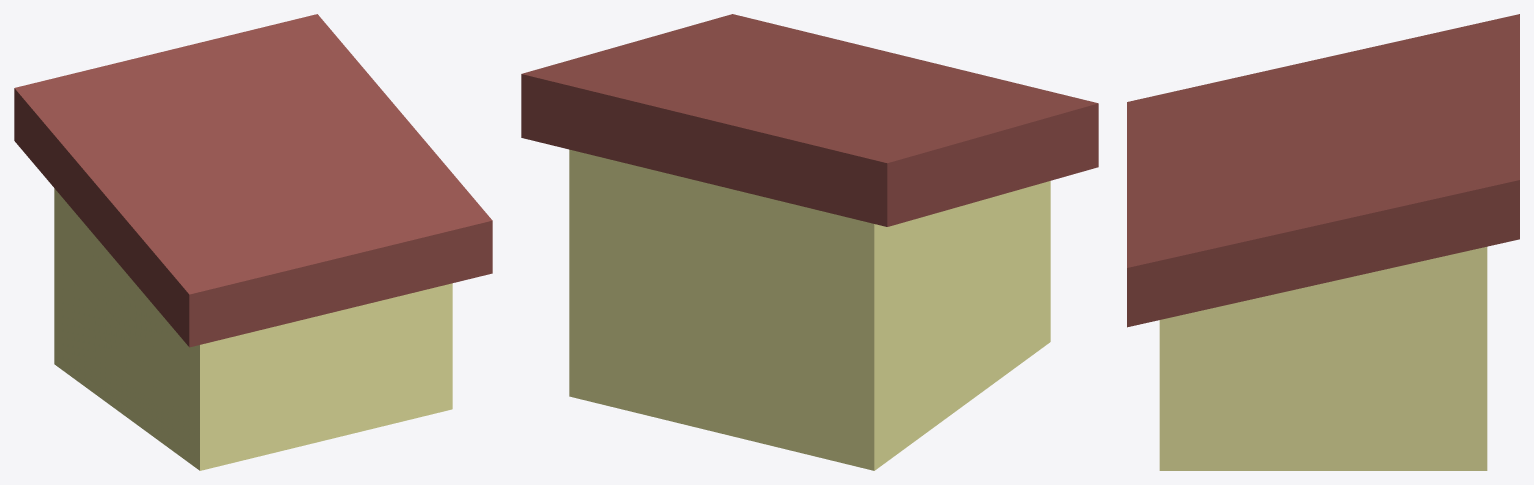
File: house1.glb
3 views of the same model, side by side, from view 1: azimuth 30°, elevation 25°; view 2: azimuth 150°, elevation 25°; view 3: azimuth 270°, elevation 25° (orthographic). The views are drawn at different scales.
Parts seen in each view (by area): view 1: Body, Roof; view 2: Roof, Body; view 3: Body, Roof.
Part boxes in pixels (box(x1,y1,x2,y2)): Body: box(14, 14, 492, 347); Roof: box(54, 188, 452, 470); Roof: box(569, 149, 1050, 470); Body: box(521, 14, 1098, 226); Body: box(1127, 14, 1519, 327); Roof: box(1159, 247, 1487, 470).
Bounding box in the file's own units: 2.4 × 2.05 × 2.4.
